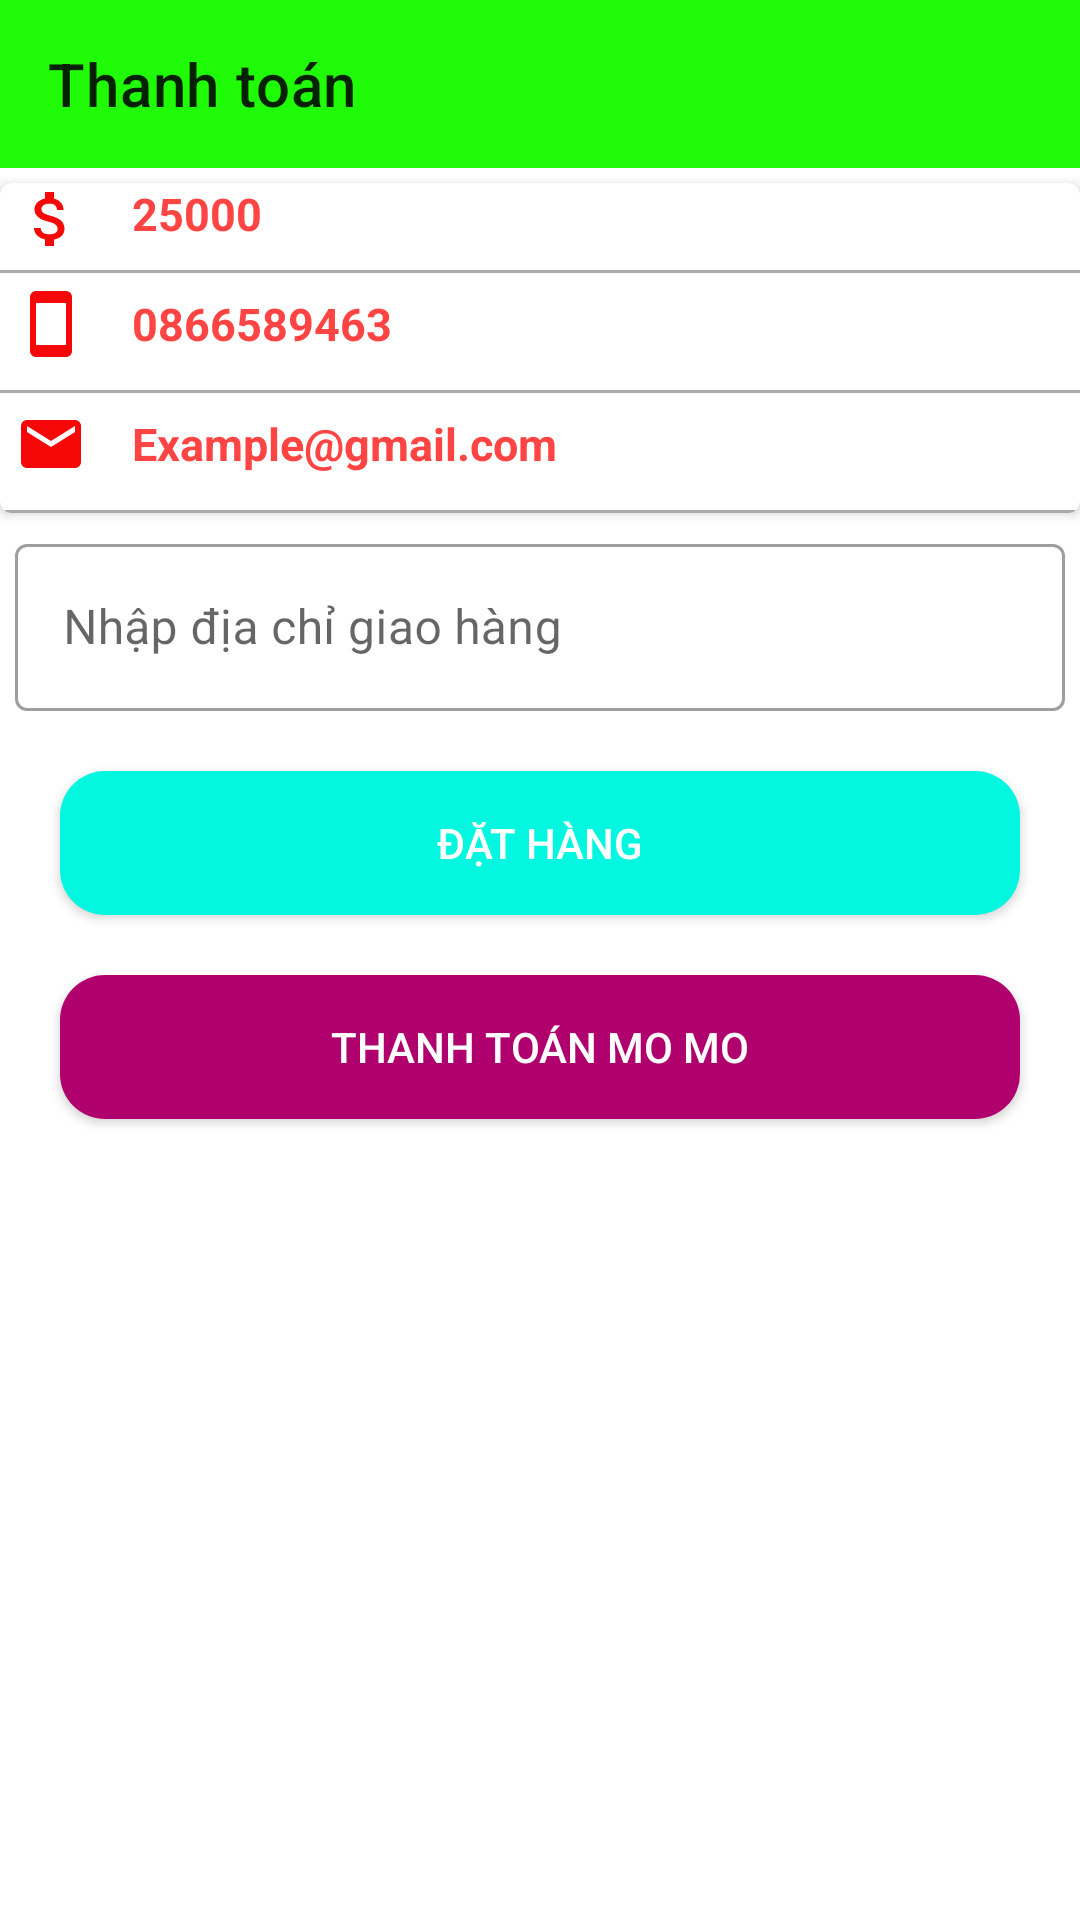

Icons on this 1080x1920 Android screen, each with the point to tap as [x,y]:
attach money: [49,219]
smartphone: [51,324]
